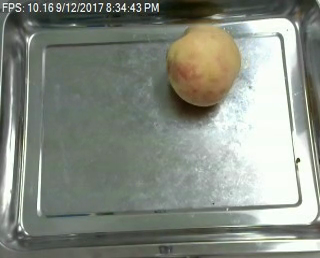Peach: (165, 23, 242, 107)
